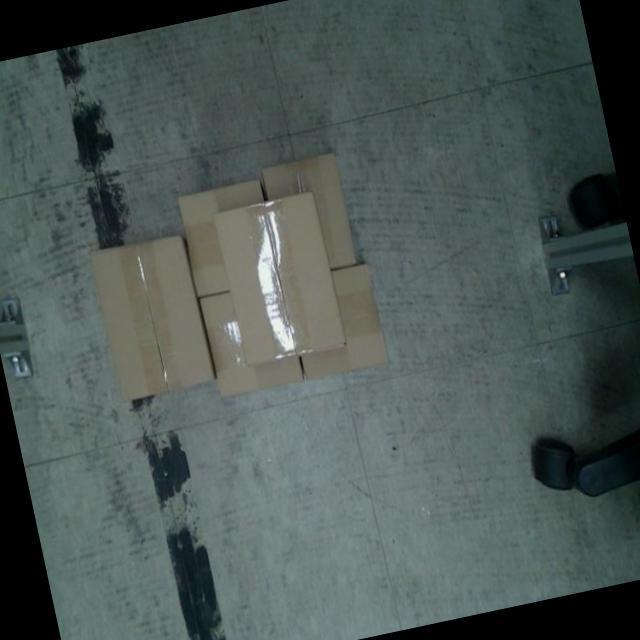box: (210, 190, 348, 369), (86, 230, 218, 406)
